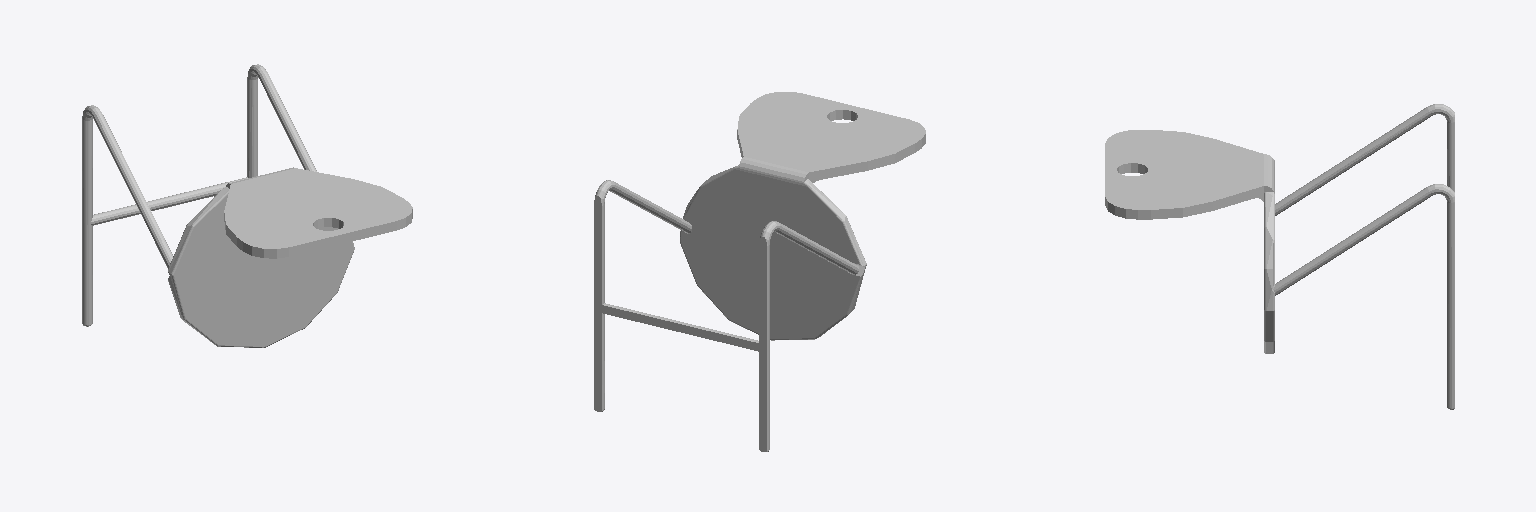
Rendered from 0_Stuhl.obj.
3 views of the same model, side by side, from view 1: azimuth 30°, elevation 25°; view 2: azimuth 150°, elevation 25°; view 3: azimuth 270°, elevation 25° (orthographic).
Parts seen in each view (by area): view 1: Stuhl; view 2: Stuhl; view 3: Stuhl.
Part boxes in pixels (bbox=[...]): Stuhl: bbox=[82, 64, 412, 347]; Stuhl: bbox=[594, 92, 925, 451]; Stuhl: bbox=[1105, 104, 1454, 409].
Size of the model in its own units: 20 by 23.31 by 32.96.